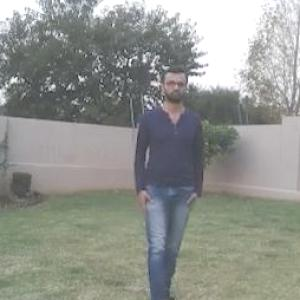follow: (132, 71, 196, 295)
